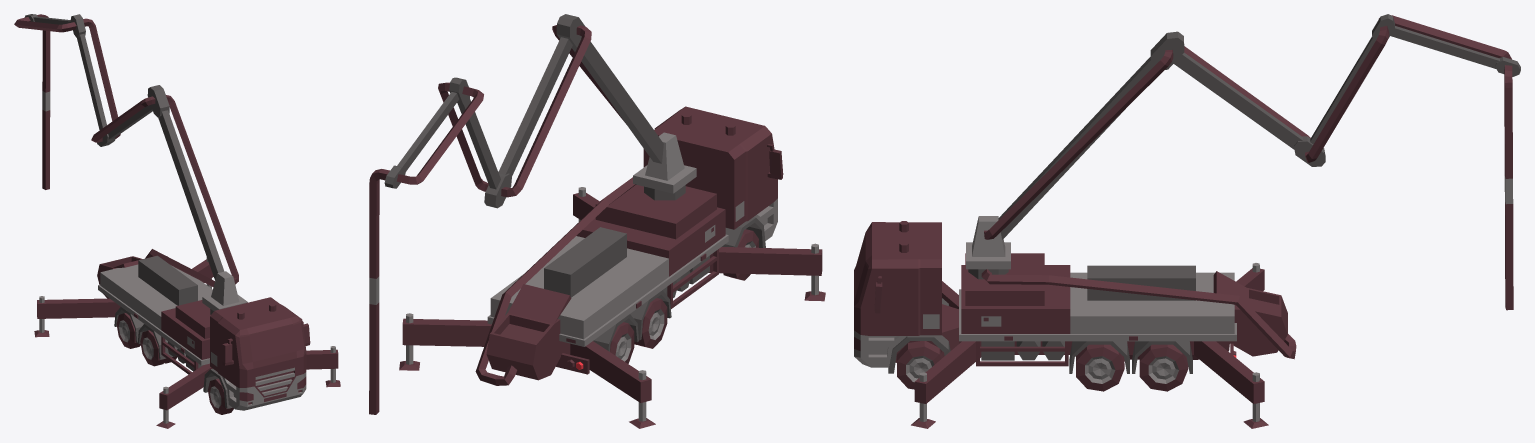
The model's file is car-truck-pump.fbx.
3 renders of one model, left to right at view 1: azimuth 30°, elevation 25°; view 2: azimuth 150°, elevation 25°; view 3: azimuth 270°, elevation 25°, orthographic. The views are drawn at different scales.
Visible parts, largest first — view 1: car-truck-pump-base, car-truck-pump-arm; view 2: car-truck-pump-base, car-truck-pump-arm; view 3: car-truck-pump-base, car-truck-pump-arm.
Boxes of the visible parts, <box> form: car-truck-pump-base: <box>34,249,340,428</box>; car-truck-pump-arm: <box>14,14,247,310</box>; car-truck-pump-base: <box>399,106,825,428</box>; car-truck-pump-arm: <box>369,14,696,414</box>; car-truck-pump-base: <box>854,221,1296,428</box>; car-truck-pump-arm: <box>966,14,1520,310</box>.
Bounding box in the file's own units: 6.36 × 8.68 × 14.86.
